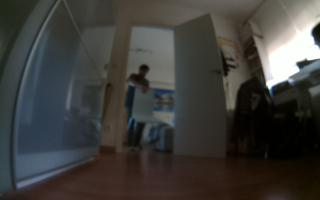person: (123, 62, 153, 153)
